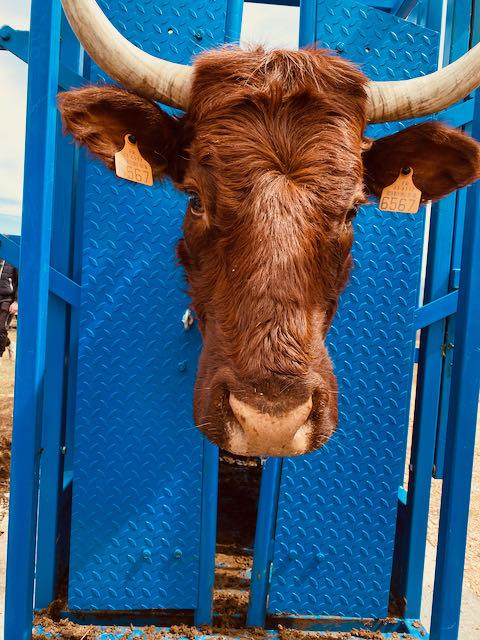muzzles: (187, 382, 343, 467)
